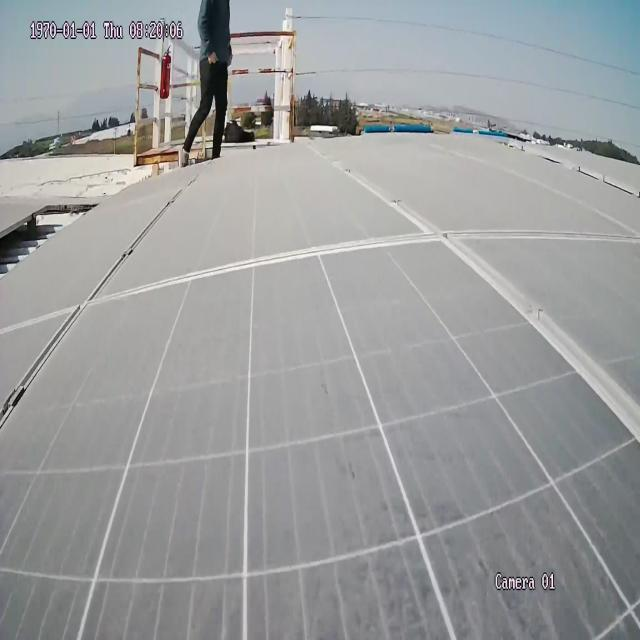interior panel: (290, 138, 640, 470), (0, 155, 211, 451)
outher panel: (0, 198, 107, 293)
